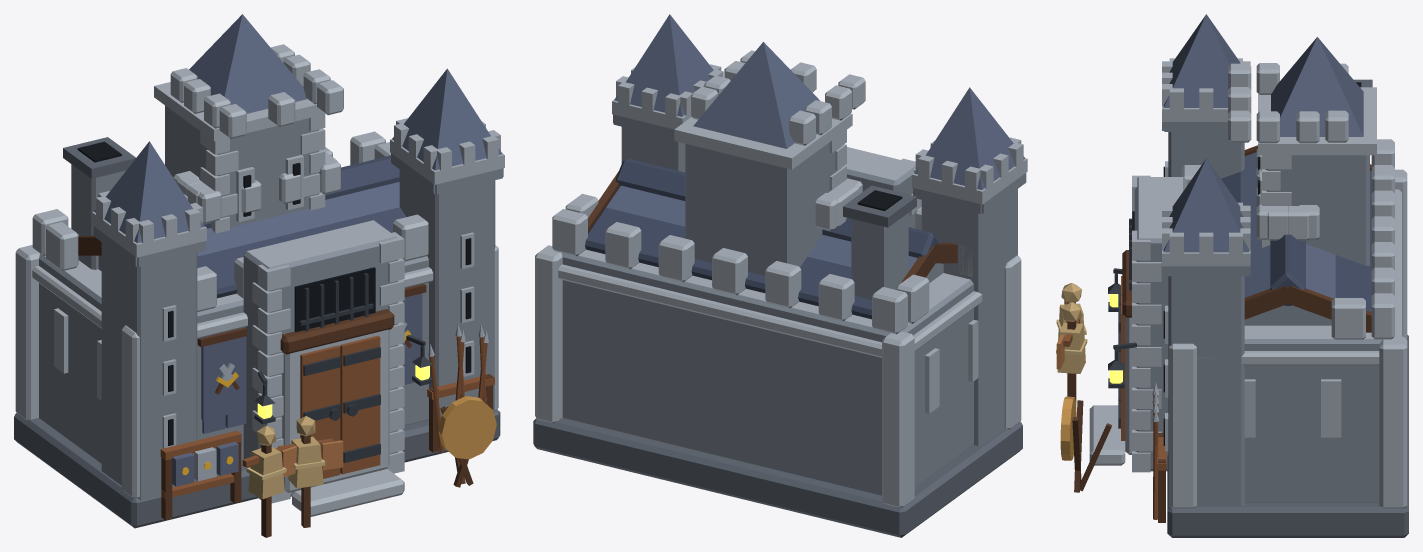
The model's file is Bld_Barracks_L3.fbx.
The picture shows the model from 3 angles, left to right: view 1: azimuth 30°, elevation 25°; view 2: azimuth 150°, elevation 25°; view 3: azimuth 270°, elevation 25°; orthographic projection.
Visible parts, largest first — view 1: Bld_Barracks_L3; view 2: Bld_Barracks_L3; view 3: Bld_Barracks_L3.
Boxes of the visible parts, x1,y1,x2,y2 form: Bld_Barracks_L3: (14,14,504,537); Bld_Barracks_L3: (533,14,1027,537); Bld_Barracks_L3: (1056,14,1408,537).
Bounding box in the file's own units: 5.43 × 5.86 × 4.53.
